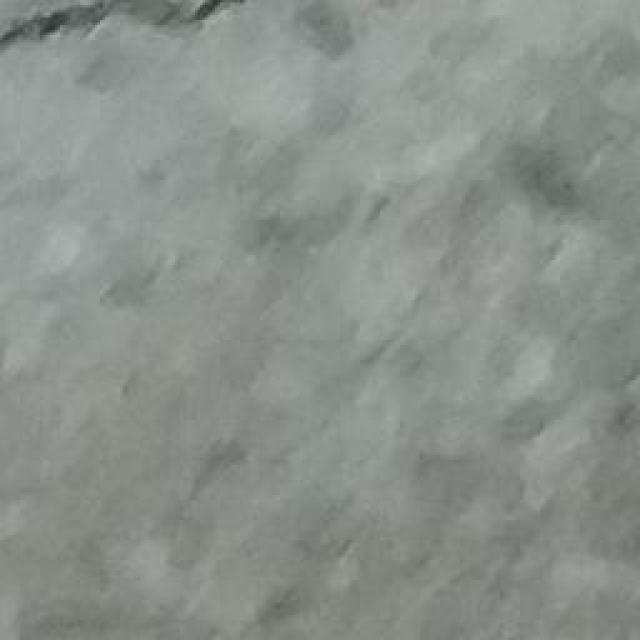Transverse: (0, 0, 258, 60)
